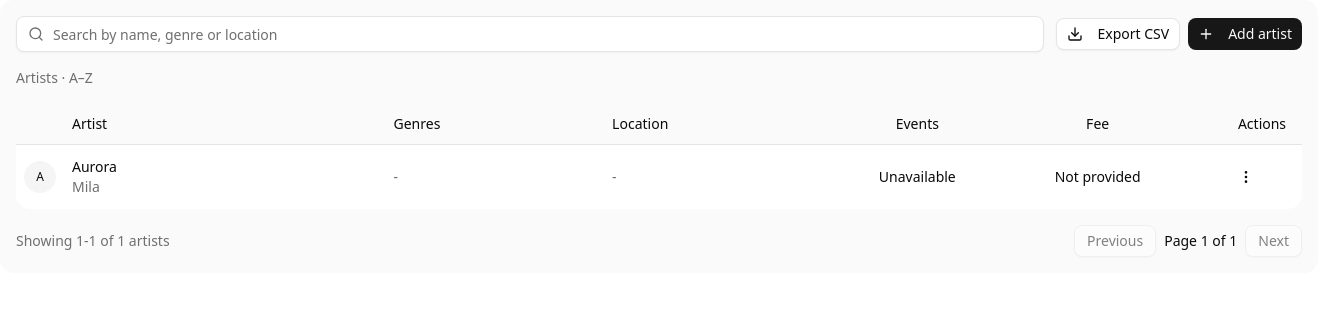
it: shows fixed error copy and downloads nothing on failure
Step 1. Click the button "Export CSV" → (1118, 34), box left=1056, top=18, right=1180, bottom=50
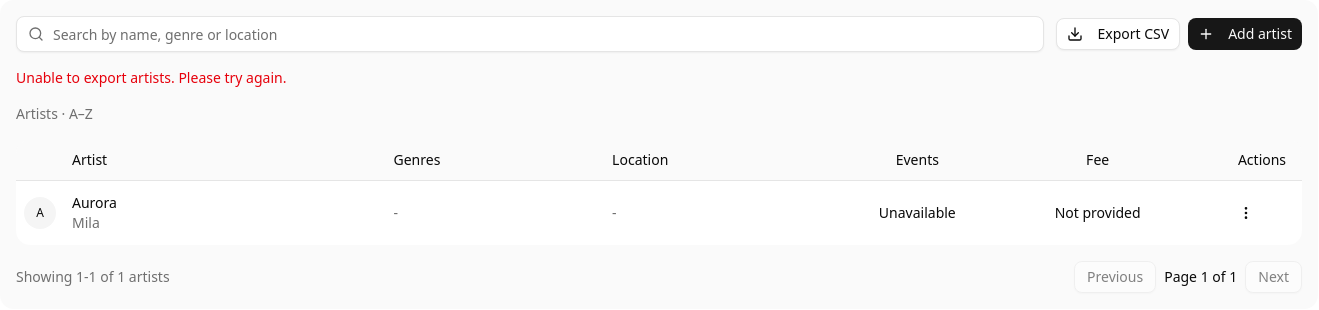
Now the message "Unable to export artists. Please try again." is shown, box left=16, top=68, right=286, bottom=87
